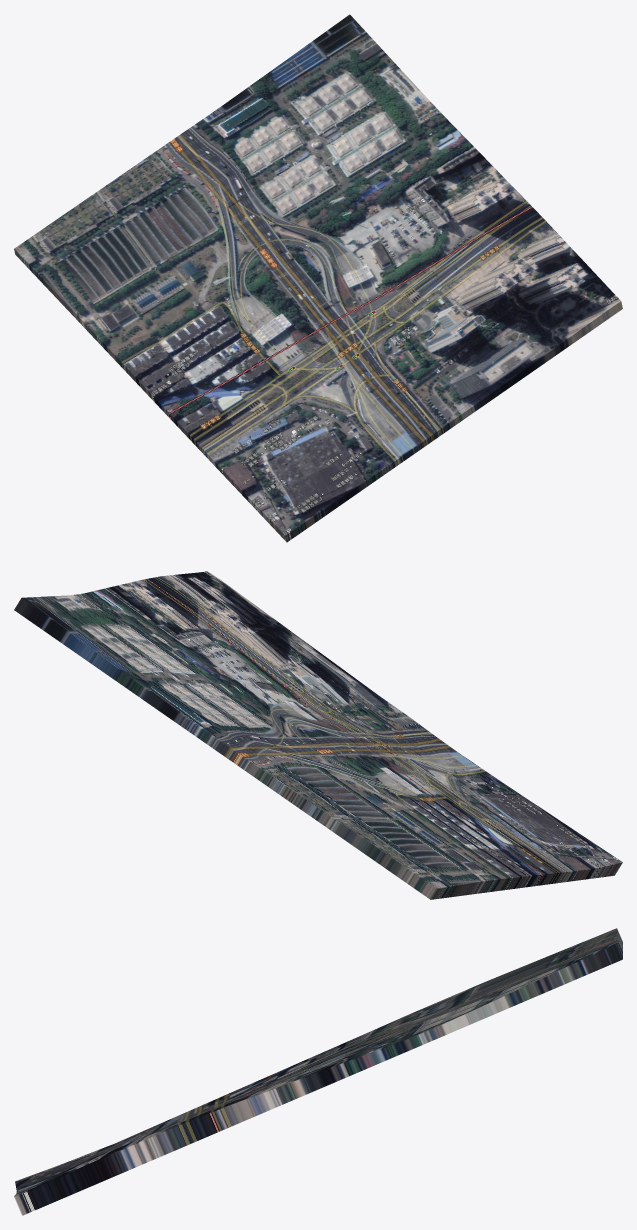
3 views of the same model, one above another, from view 1: azimuth 30°, elevation 25°; view 2: azimuth 150°, elevation 25°; view 3: azimuth 270°, elevation 25° (orthographic). The views are drawn at different scales.
Visible parts, largest first — view 1: 0_11_27; view 2: 0_11_27; view 3: 0_11_27.
Part boxes in pixels (x1,y1,x2,y2): 0_11_27: (14,14,622,542); 0_11_27: (14,571,622,899); 0_11_27: (14,928,622,1215).
Bounding box in the file's own units: 597 × 441 × 549.
Materials: 1 (1 with a texture image).
